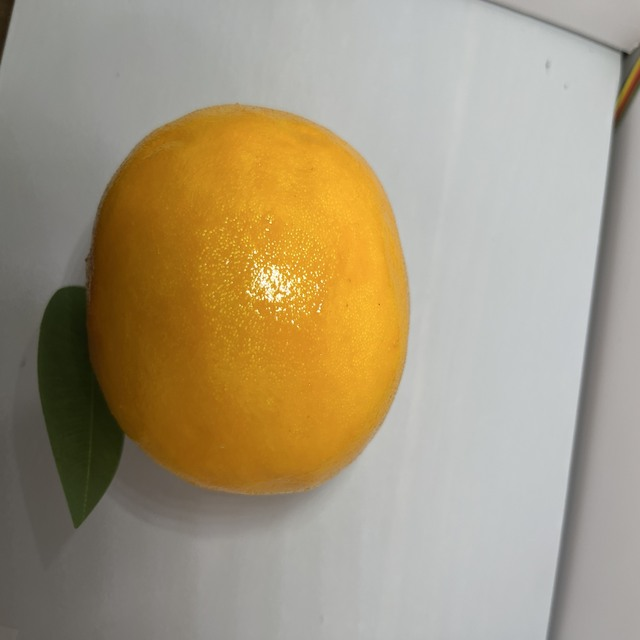Cam vang: (76, 102, 414, 499)
